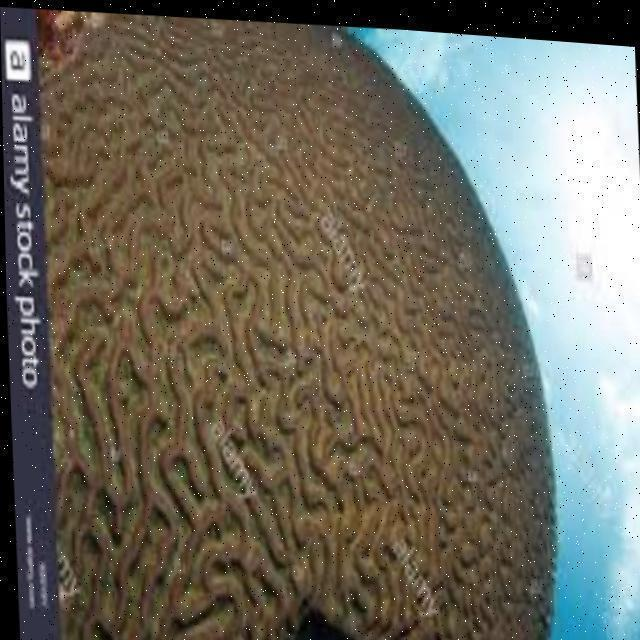Healthy Coral: (47, 19, 555, 640)
